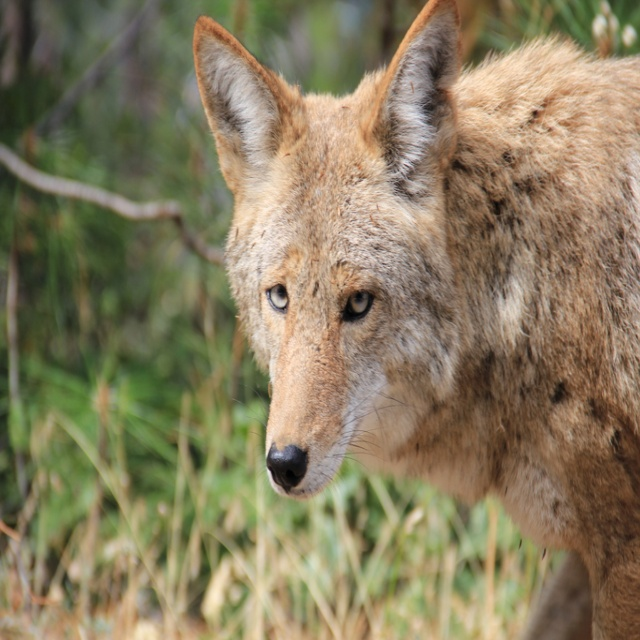Fox: (190, 0, 640, 639)
